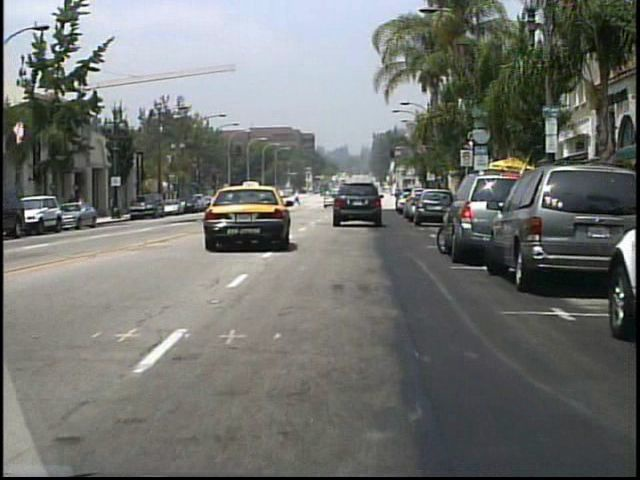person: (69, 189, 82, 221), (79, 192, 90, 221), (294, 190, 302, 207)
